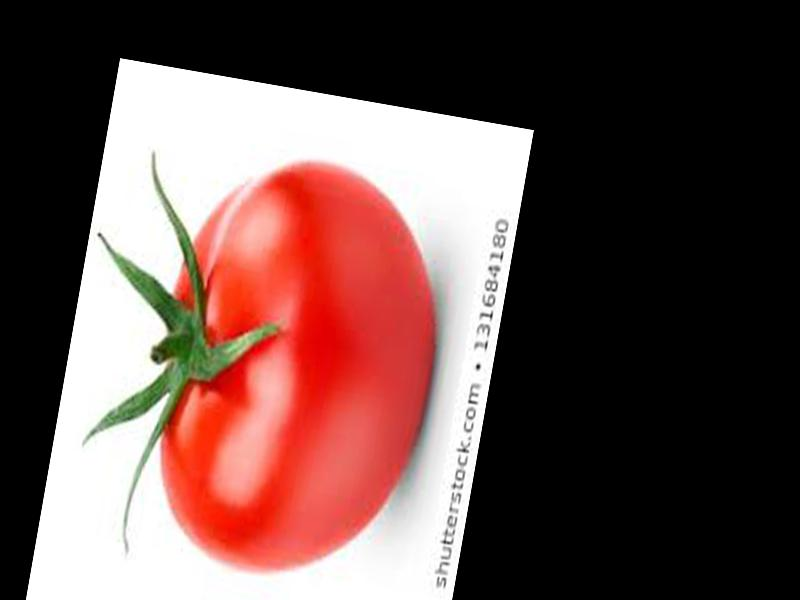Tomato: (131, 140, 460, 594)
